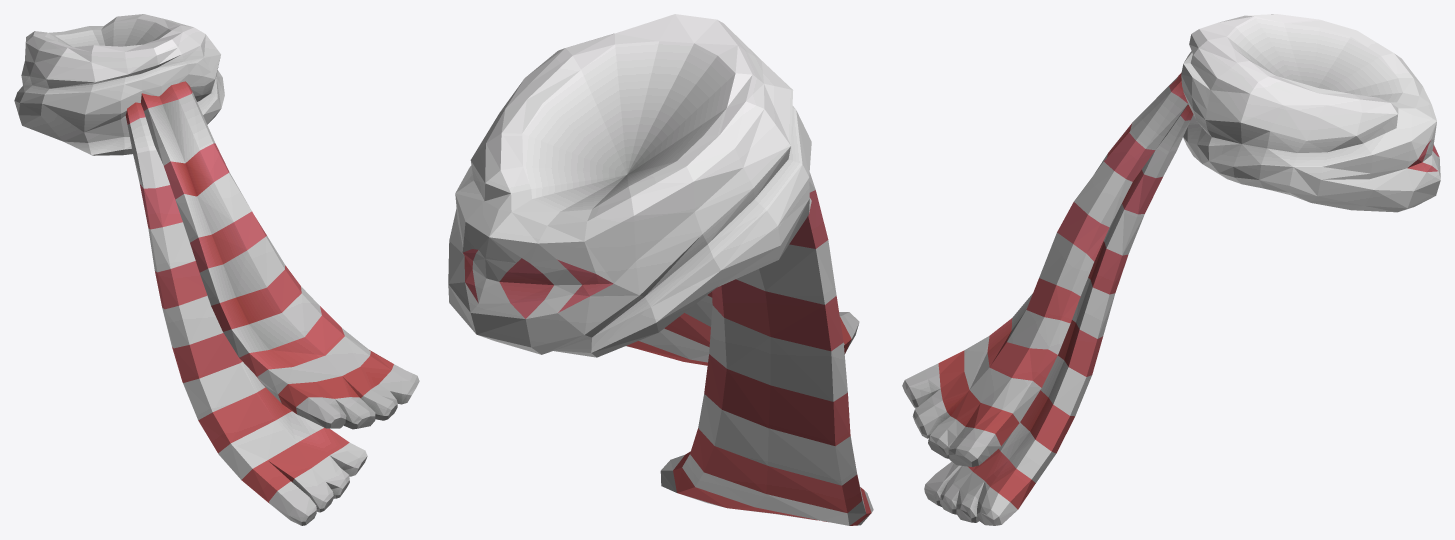
Rendered from CharSkyKid_Neck_AP24StripesScarf.glb.
3 views of the same model, side by side, from view 1: azimuth 30°, elevation 25°; view 2: azimuth 150°, elevation 25°; view 3: azimuth 270°, elevation 25° (orthographic). The views are drawn at different scales.
Visible parts, largest first — view 1: CharSkyKid_Neck_AP24StripesScarf; view 2: CharSkyKid_Neck_AP24StripesScarf; view 3: CharSkyKid_Neck_AP24StripesScarf.
Boxes of the visible parts, x1,y1,x2,y2 form: CharSkyKid_Neck_AP24StripesScarf: (14,14,419,525); CharSkyKid_Neck_AP24StripesScarf: (448,14,873,525); CharSkyKid_Neck_AP24StripesScarf: (902,14,1440,525).
Bounding box in the file's own units: 3.57 × 5.39 × 5.8.
1 material, 1 textured.
